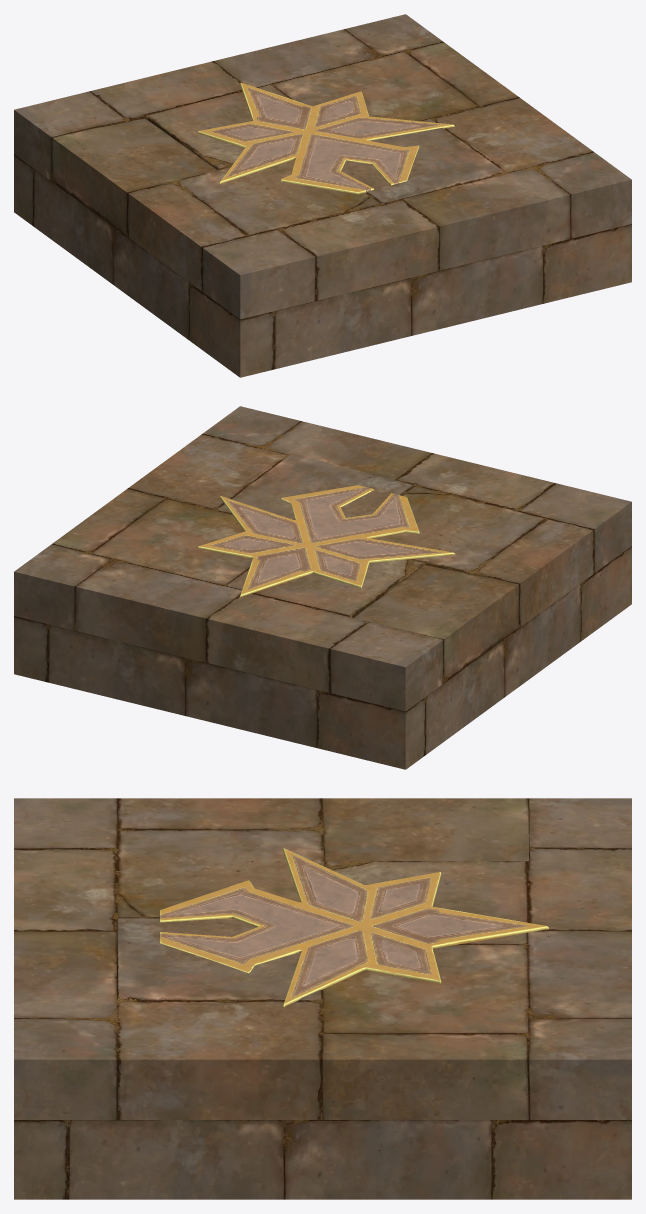
The picture shows the model from 3 angles, top to bottom: view 1: azimuth 30°, elevation 25°; view 2: azimuth 150°, elevation 25°; view 3: azimuth 270°, elevation 25°; orthographic projection. The views are drawn at different scales.
Visible parts, largest first — view 1: SM_DK_4m_Floor_04_LOD0; view 2: SM_DK_4m_Floor_04_LOD0; view 3: SM_DK_4m_Floor_04_LOD0.
Part boxes in pixels (<box>): SM_DK_4m_Floor_04_LOD0: <box>14,14,631,377</box>; SM_DK_4m_Floor_04_LOD0: <box>14,406,631,769</box>; SM_DK_4m_Floor_04_LOD0: <box>14,798,631,1199</box>.
Size of the model in its own units: 4 by 1.03 by 4.
Materials: 2 (2 with a texture image).
